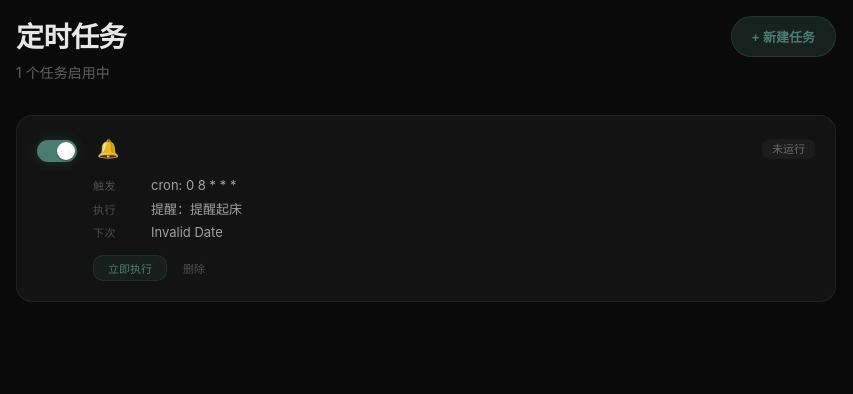
Test: ScheduledTasksView › 立即执行失败时显示红色横幅
Click the button "立即执行" at x=130, y=268, box [93,254,167,280]
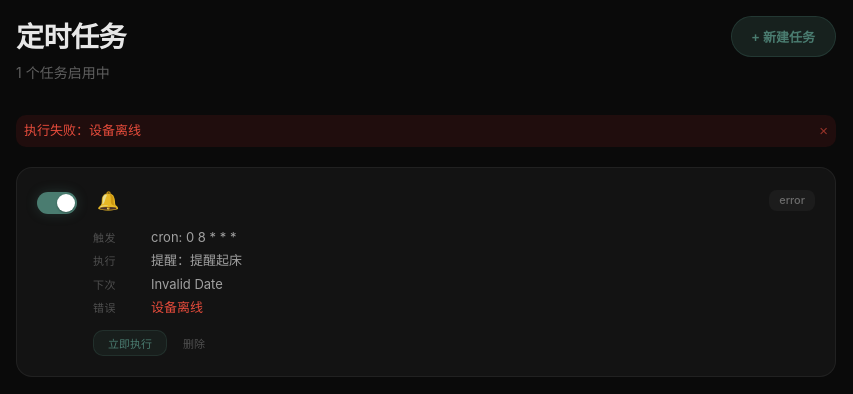
Check: the element with class "run-notice" shows "设备离线", box [24,122,141,138]
